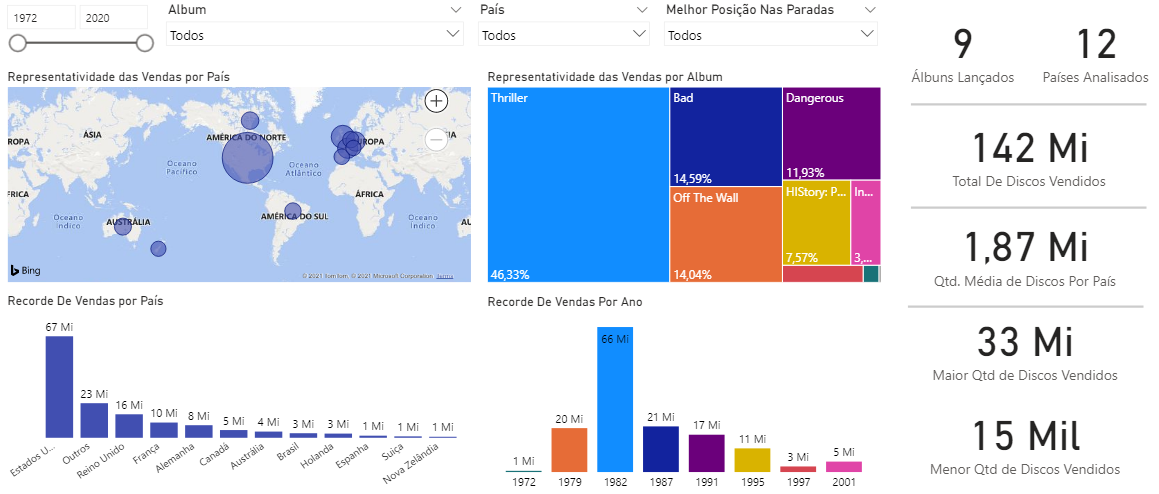

This screenshot's page, from the dashboard's own definition file:
{"tool":"powerbi","page":{"name":"Recorde De Vendas","canvas":[1680,720],"ordinal":1},"visuals":[{"type":"map","title":"Representatividade das Vendas por País","fields":{"Category":["TOP POSIÇÃO.País"],"Size":["Sum(TOP POSIÇÃO.Recorde De Vendas)"]},"box":[9.3,102.8,678.6,312.6],"z":0},{"type":"columnChart","fields":{"Category":["TOP POSIÇÃO.País"],"Y":["Sum(TOP POSIÇÃO.Recorde De Vendas)"]},"box":[9.3,426.1,678.6,293.9],"z":1000},{"type":"treemap","title":"Representatividade das Vendas por Album","fields":{"Group":["TOP POSIÇÃO.Album"],"Values":["Divide(Sum(fTopPosicao.Recorde De Vendas), ScopedEval(Sum(fTopPosicao.Recorde De Vendas), []))"]},"box":[701.7,102.7,578.2,312.9],"z":2000},{"type":"columnChart","title":"Recorde De Vendas Por Ano","fields":{"Y":["Sum(TOP POSIÇÃO.Recorde De Vendas)"],"Category":["dCalendário.Ano"]},"box":[701.9,427.6,578.1,292],"z":3000},{"type":"slicer","fields":{"Values":["TOP POSIÇÃO.Album"]},"box":[233,0,449.8,91.4],"z":4000},{"type":"slicer","fields":{"Values":["fTopPosicao.País"]},"box":[682.8,0,268.4,91.4],"z":5000},{"type":"slicer","fields":{"Values":["TOP POSIÇÃO.MELHOR POSIÇÃO"]},"box":[951.1,0,328.8,91.4],"z":6000},{"type":"slicer","fields":{"Values":["dCalendário.Ano"]},"box":[0,0,233,91.4],"z":7000},{"type":"card","fields":{"Values":["Sum(fTopPosicao.Recorde De Vendas)"]},"box":[1311.8,152.9,352.1,134.8],"z":8000},{"type":"card","fields":{"Values":["Count(fTopPosicao.Album)"]},"box":[1311.8,0,160.9,140.8],"z":9000},{"type":"card","fields":{"Values":["Count(fTopPosicao.País)"]},"box":[1498.9,0,169,140.8],"z":10000},{"type":"card","fields":{"Values":["Avg(fTopPosicao.Recorde De Vendas)"]},"box":[1305.8,301.8,352.1,124.7],"z":11000},{"type":"card","fields":{"Values":["Min(fTopPosicao.Recorde De Vendas)"]},"box":[1305.8,573.4,352.1,126.8],"z":12000},{"type":"card","fields":{"Values":["Max(fTopPosicao.Recorde De Vendas)"]},"box":[1305.8,428.6,352.1,144.9],"z":13000},{"type":"basicShape","box":[1307.8,24.1,360.1,257.5],"z":14000},{"type":"basicShape","box":[1307.8,189.1,360.1,227.3],"z":15000},{"type":"basicShape","box":[1303.8,332,360.1,227.3],"z":16000}]}

Visuals, with their boxes in screenshot pixels (x1, y1, x2, y2), scaled from the page's 1680x720 canvas onto the 1159x494 screenshot:
"Representatividade das Vendas por País" map: detection(6, 71, 475, 285)
columnChart - TOP POSIÇÃO.País x Sum(TOP POSIÇÃO.Recorde De Vendas): detection(6, 292, 475, 493)
"Representatividade das Vendas por Album" treemap: detection(484, 70, 883, 285)
"Recorde De Vendas Por Ano" columnChart: detection(484, 293, 883, 493)
slicer - TOP POSIÇÃO.Album: detection(161, 0, 471, 63)
slicer - fTopPosicao.País: detection(471, 0, 656, 63)
slicer - TOP POSIÇÃO.MELHOR POSIÇÃO: detection(656, 0, 883, 63)
slicer - dCalendário.Ano: detection(0, 0, 161, 63)
card - Sum(fTopPosicao.Recorde De Vendas): detection(905, 105, 1148, 197)
card - Count(fTopPosicao.Album): detection(905, 0, 1016, 97)
card - Count(fTopPosicao.País): detection(1034, 0, 1151, 97)
card - Avg(fTopPosicao.Recorde De Vendas): detection(901, 207, 1144, 293)
card - Min(fTopPosicao.Recorde De Vendas): detection(901, 393, 1144, 480)
card - Max(fTopPosicao.Recorde De Vendas): detection(901, 294, 1144, 393)
basicShape: detection(902, 17, 1151, 193)
basicShape: detection(902, 130, 1151, 286)
basicShape: detection(899, 228, 1148, 384)
